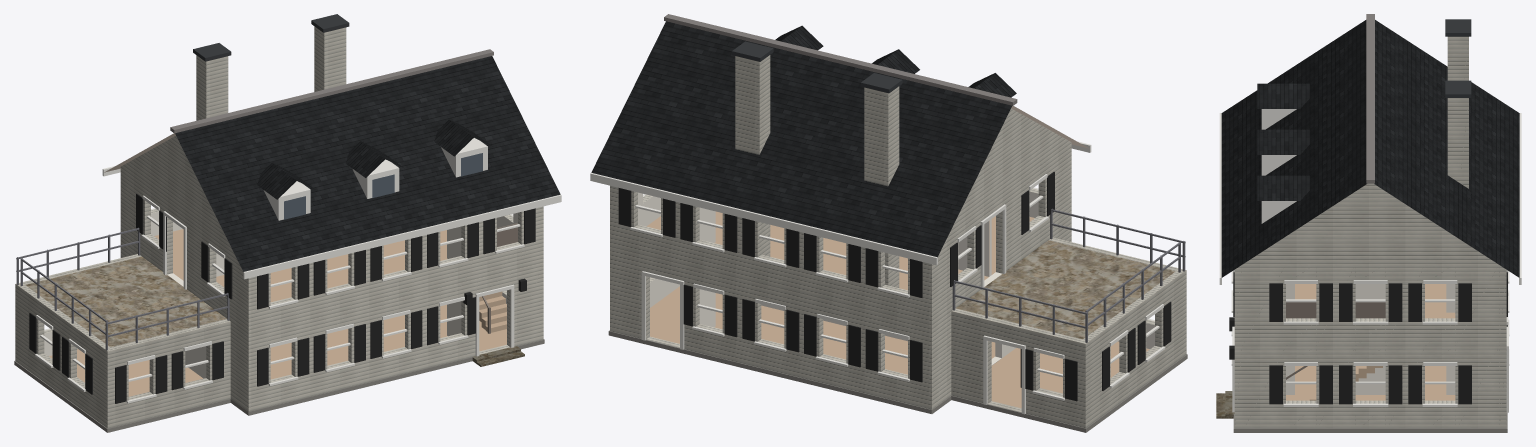
The model's file is ns-colonial.towns-v2.lod0.glb.
The picture shows the model from 3 angles, left to right: view 1: azimuth 30°, elevation 25°; view 2: azimuth 150°, elevation 25°; view 3: azimuth 270°, elevation 25°; orthographic projection. The views are drawn at different scales.
Visible parts, largest first — view 1: ns-colonial; view 2: ns-colonial; view 3: ns-colonial.
Boxes of the visible parts, x1,y1,x2,y2 form: ns-colonial: (14, 14, 561, 432); ns-colonial: (590, 14, 1187, 432); ns-colonial: (1216, 14, 1521, 432).
Bounding box in the file's own units: 17.59 × 10.55 × 10.09.
Materials: 6 (3 with a texture image).
